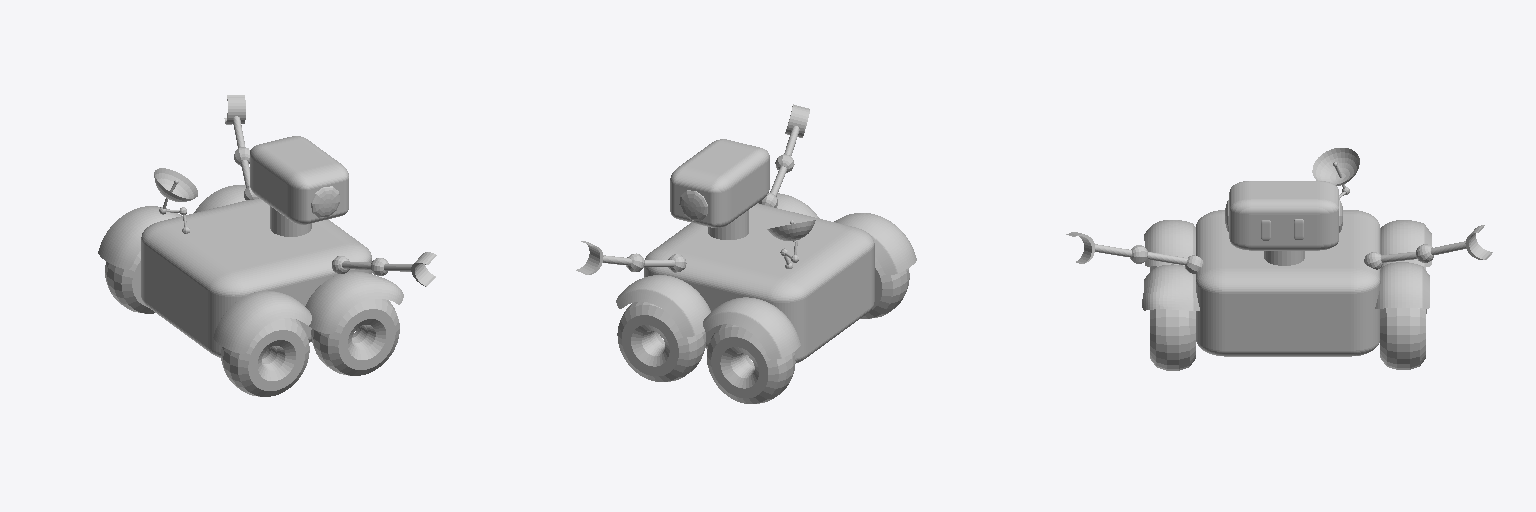
Rendered from rover.obj.
3 views of the same model, side by side, from view 1: azimuth 30°, elevation 25°; view 2: azimuth 150°, elevation 25°; view 3: azimuth 270°, elevation 25° (orthographic).
Parts seen in each view (by area): view 1: Body, Head, wheel.right.back, wheel.right.front, bumper.left.front.002, bumper.left.front.001, bumper.left.back, wheel.left.back, satellite.dish, bumper.left.front, ear.right, Neck (+1 smaller); view 2: Body, Head, wheel.left.front, wheel.left.back, bumper.left.back, bumper.left.front, bumper.left.front.002, wheel.right.back, ear.left, Neck, satellite.dish; view 3: Body, Head, wheel.left.front, wheel.right.front, bumper.left.front.001, bumper.left.front, bumper.left.front.002, bumper.left.back, satellite.dish, Neck.
Boxes of the visible parts, x1,y1,x2,y2 form: Body: [141, 198, 371, 357]; Head: [250, 136, 348, 224]; wheel.right.back: [221, 318, 309, 396]; wheel.right.front: [311, 299, 399, 375]; bumper.left.front.002: [213, 291, 311, 353]; bumper.left.front.001: [305, 271, 403, 333]; bumper.left.back: [98, 206, 181, 268]; wheel.left.back: [105, 251, 154, 313]; satellite.dish: [154, 168, 197, 201]; bumper.left.front: [194, 185, 245, 212]; ear.right: [311, 186, 339, 217]; Neck: [270, 206, 311, 236]; Body: [644, 203, 874, 362]; Head: [670, 139, 769, 227]; wheel.left.front: [617, 302, 705, 381]; wheel.left.back: [707, 324, 795, 403]; bumper.left.back: [703, 297, 800, 359]; bumper.left.front: [616, 275, 710, 336]; bumper.left.front.002: [834, 213, 916, 274]; wheel.right.back: [860, 257, 909, 318]; ear.left: [679, 190, 707, 220]; Neck: [708, 210, 748, 239]; satellite.dish: [767, 220, 815, 240]; Body: [1196, 210, 1380, 356]; Head: [1229, 181, 1338, 250]; wheel.left.front: [1380, 308, 1425, 369]; wheel.right.front: [1150, 309, 1195, 370]; bumper.left.front.001: [1142, 264, 1199, 310]; bumper.left.front: [1375, 262, 1429, 308]; bumper.left.front.002: [1144, 220, 1195, 266]; bumper.left.back: [1381, 220, 1431, 266]; satellite.dish: [1312, 148, 1359, 185]; Neck: [1264, 251, 1304, 265].
Bounding box in the file's own units: 2.14 × 2.01 × 4.43.